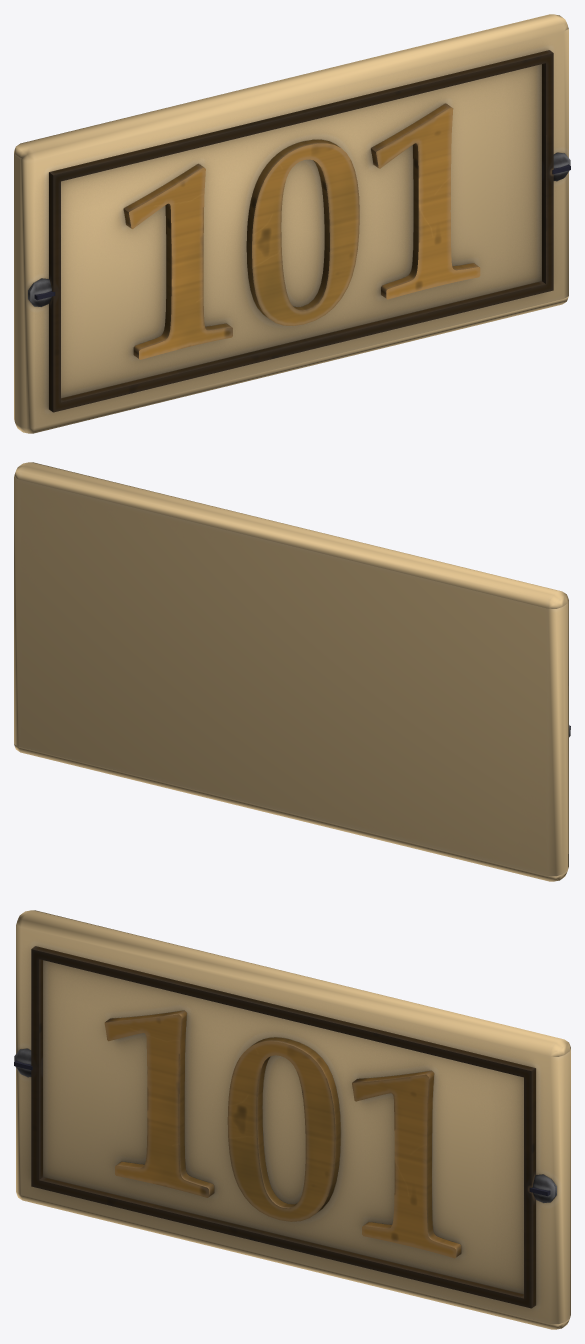
The model's file is RoomNumberPlate.fbx.
3 views of the same model, one above another, from view 1: azimuth 30°, elevation 25°; view 2: azimuth 150°, elevation 25°; view 3: azimuth 330°, elevation 25° (orthographic).
Parts seen in each view (by area): view 1: RoomNumberPlate; view 2: RoomNumberPlate; view 3: RoomNumberPlate.
Part boxes in pixels (box(x1,y1,x2,y2)): RoomNumberPlate: box(14, 14, 570, 433); RoomNumberPlate: box(14, 462, 570, 881); RoomNumberPlate: box(14, 910, 570, 1329).
Size of the model in its own units: 120 by 60 by 8.
